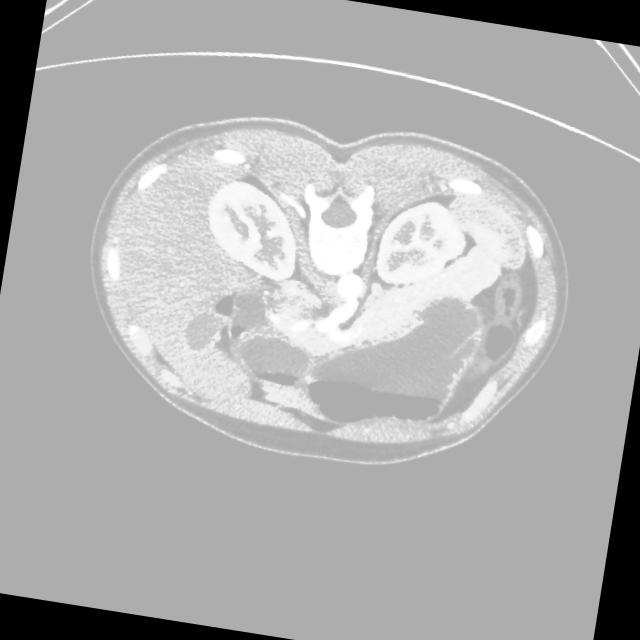NORMAL: (41, 72, 595, 504)
